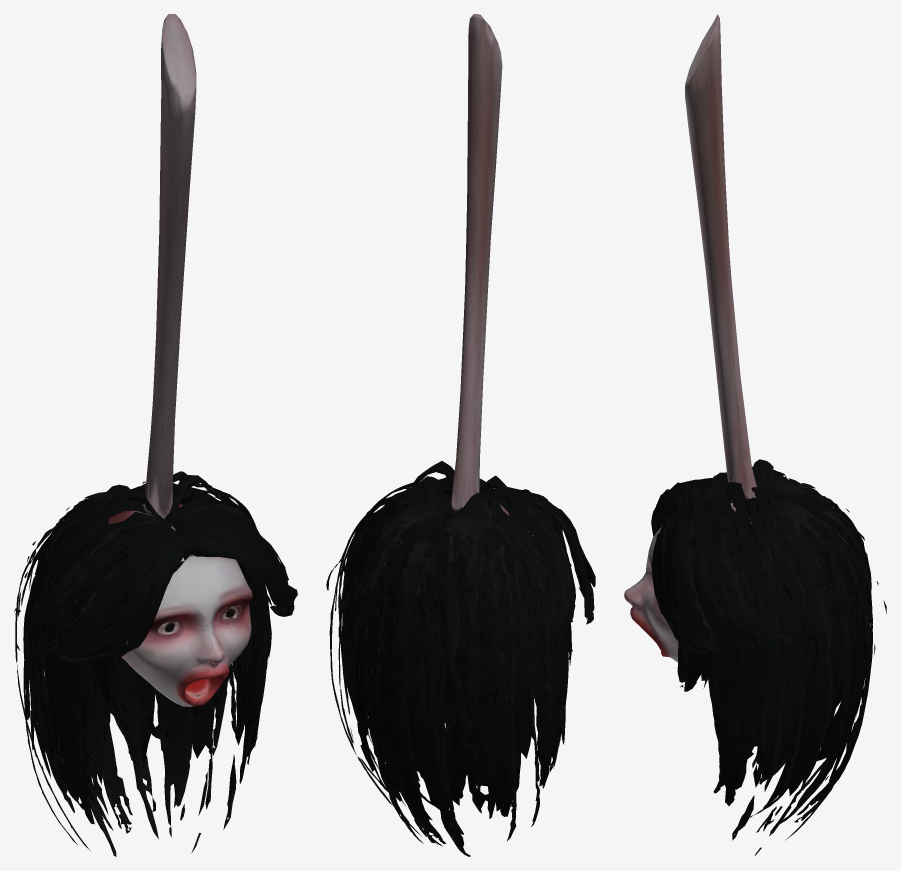
The model's file is kubi.glb.
3 renders of one model, left to right at view 1: azimuth 30°, elevation 25°; view 2: azimuth 150°, elevation 25°; view 3: azimuth 270°, elevation 25°, orthographic. The views are drawn at different scales.
Parts seen in each view (by area): view 1: doll; view 2: doll; view 3: doll.
Part boxes in pixels (x1,y1,x2,y2): doll: (14, 14, 297, 856); doll: (326, 14, 595, 856); doll: (624, 14, 886, 855).
Bounding box in the file's own units: 0.298 × 1 × 0.2893.
Materials: 1 (1 with a texture image).
